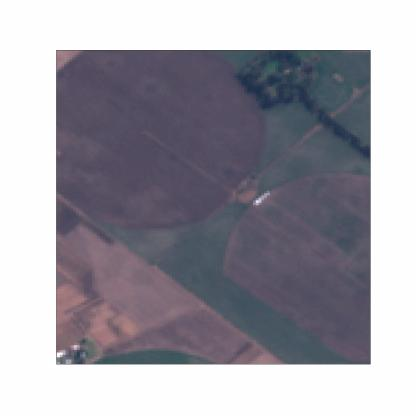silobolsa: (249, 191, 273, 204)
